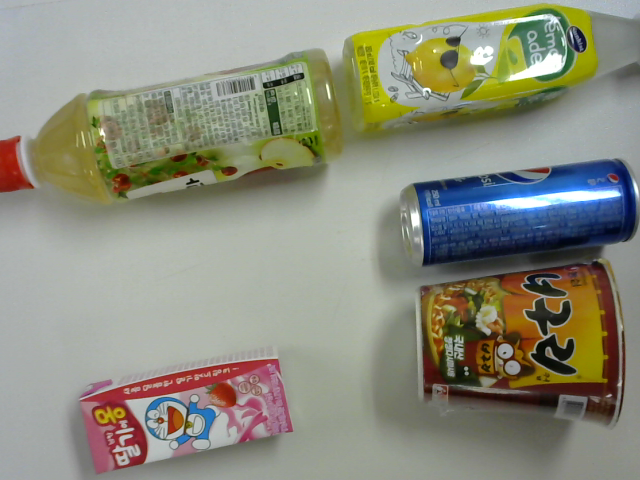Morning_Apple_500ml: (7, 50, 351, 214)
Pepsi_Cola_Can_250ml: (403, 158, 640, 264)
Raccoon: (413, 262, 627, 426)
Strawberry_E_Mong: (73, 348, 301, 470)
Sunkist_Lemonaid_Pet: (343, 4, 640, 137)
